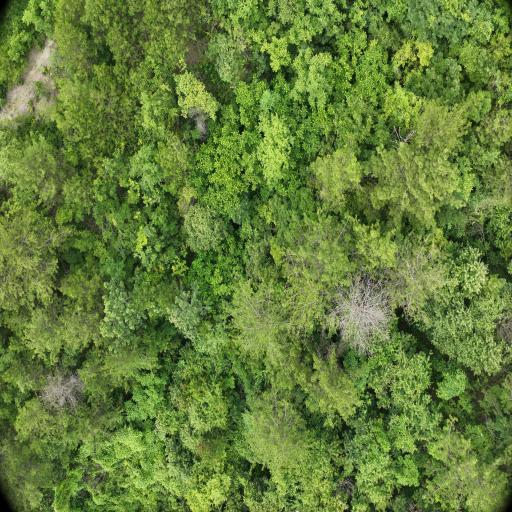dead-tree: (338, 279, 389, 344), (46, 369, 82, 407)
